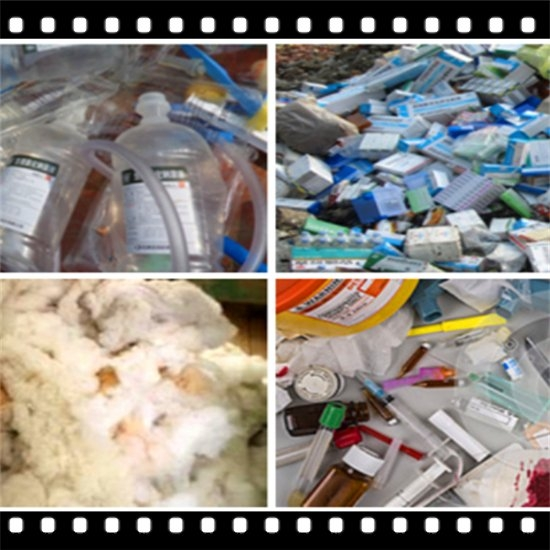plastic: (87, 92, 238, 269), (1, 96, 89, 259), (354, 369, 462, 463), (297, 439, 395, 505), (289, 400, 348, 506), (423, 403, 493, 464), (426, 170, 515, 212), (401, 225, 471, 264), (399, 315, 514, 334), (351, 187, 414, 217)
